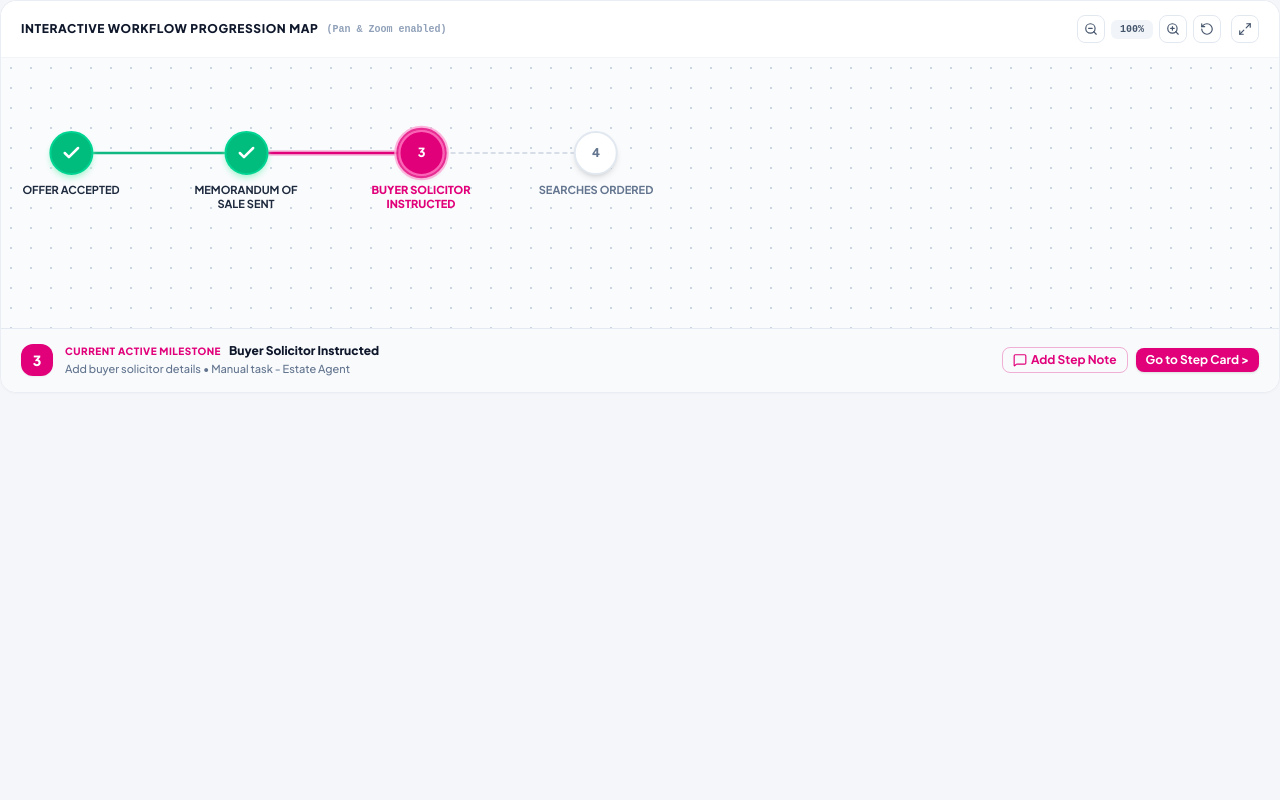
Test case: SalesProgressionTracker › renders Step Notes in the popover and opens StepNotesModal when Add Note is clicked
Hover over the text "Offer Accepted" at (71, 164), box [22,131,120,197]
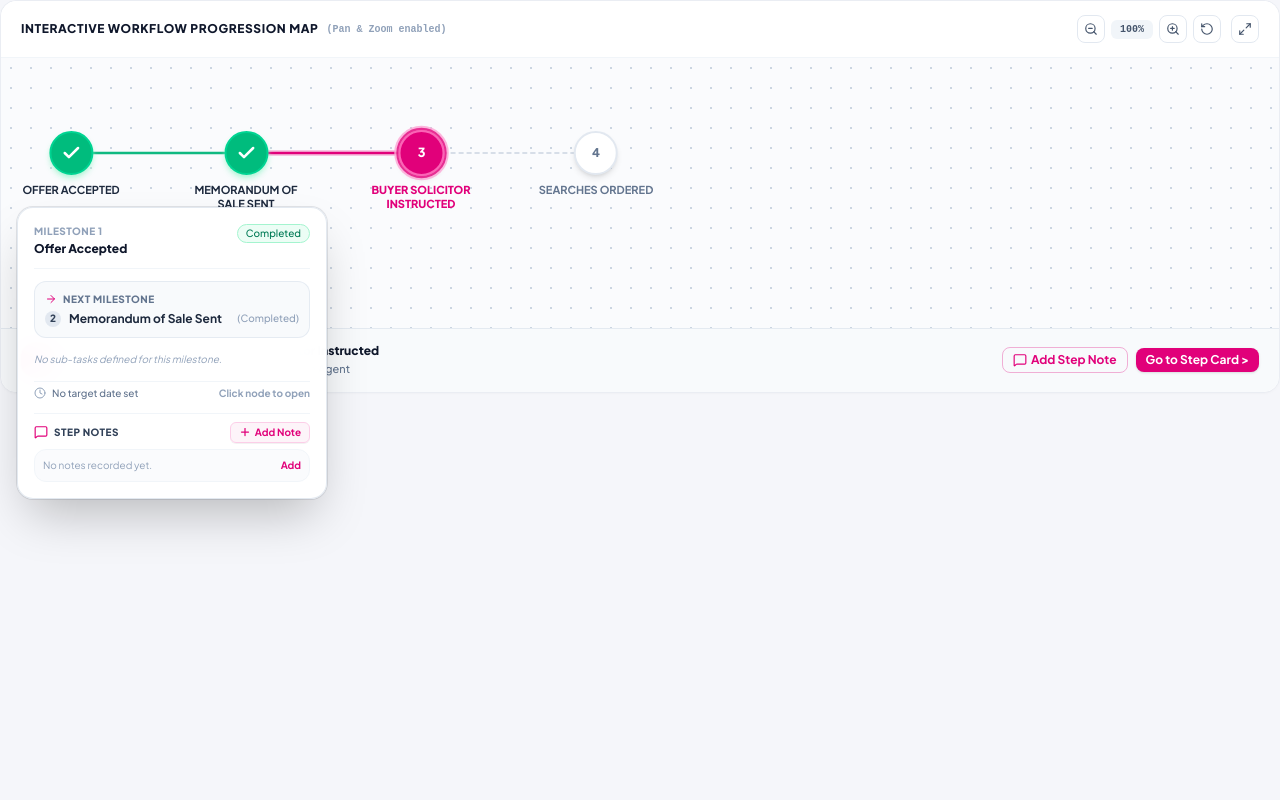
Now the element with test id "step-notes-popover-section" is shown, box [34,412,310,482]
Now the text "Step Notes" is shown, box [54,424,119,440]
# Click "Add Note" button in popover
Click the button "Add Note". click: (270, 432)
box: [230,422,310,442]
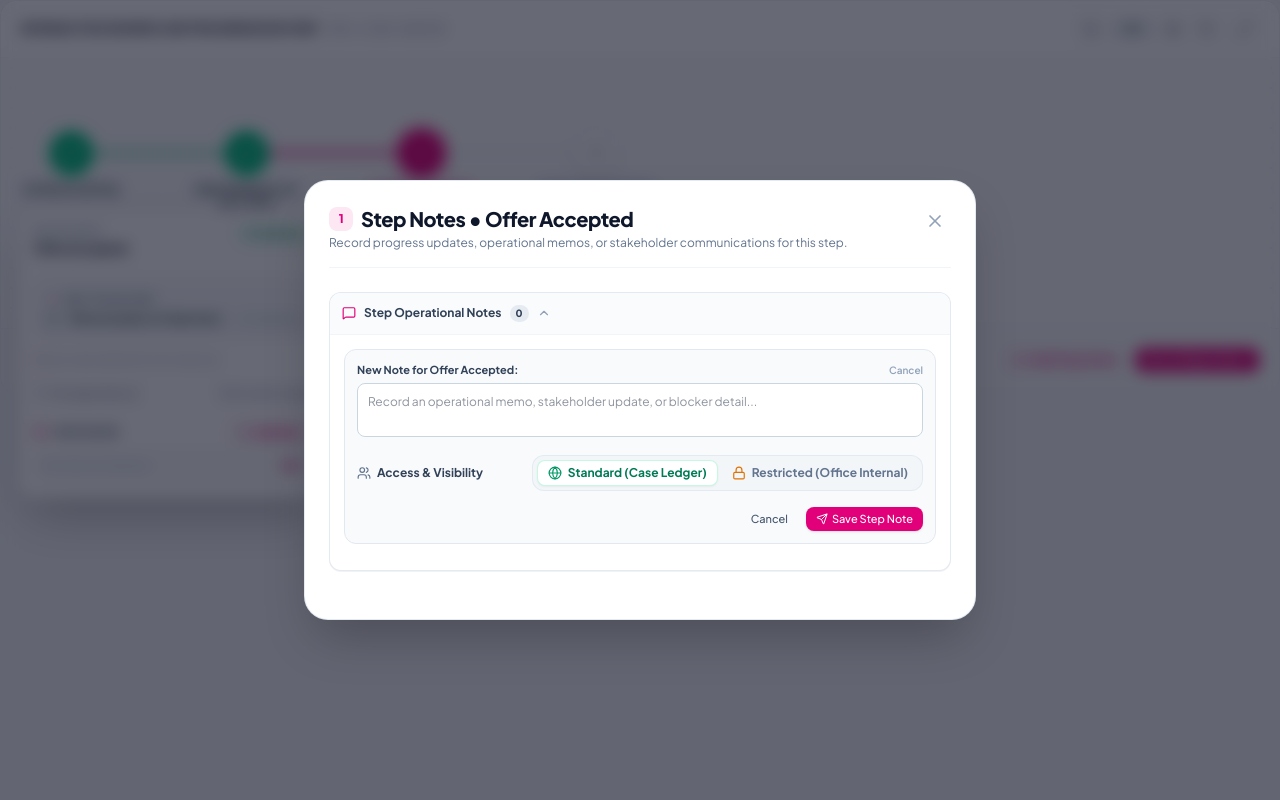
Now the text "Step Notes • Offer Accepted" is shown, box [361,205,633,233]
